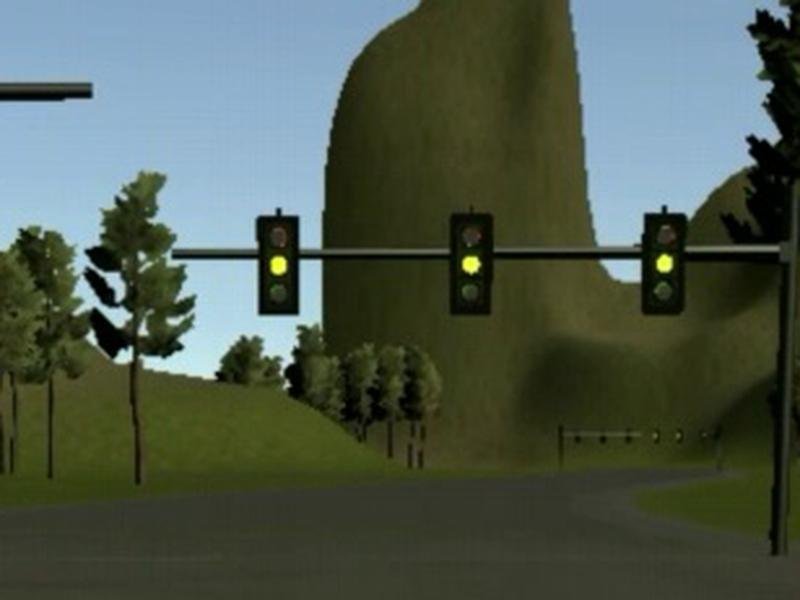Yellow: (448, 212, 492, 316), (642, 213, 686, 316), (257, 214, 299, 317)
